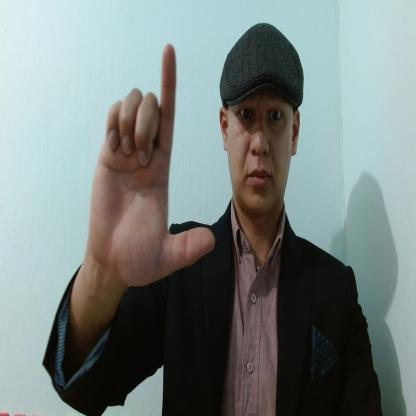L: (89, 42, 215, 287)
